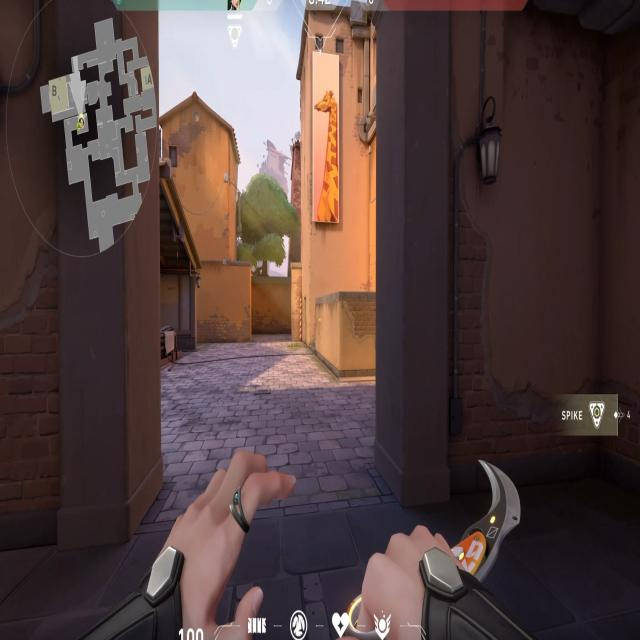B_Cubby: (325, 287, 382, 392)
